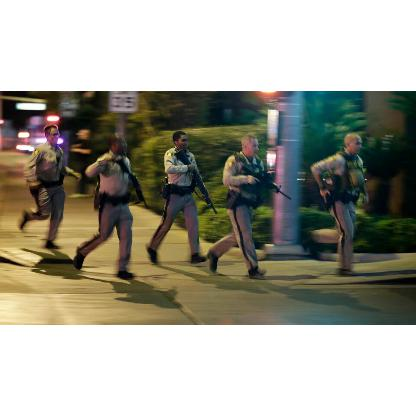gun: (174, 148, 218, 214), (236, 158, 290, 204), (113, 156, 148, 208)
